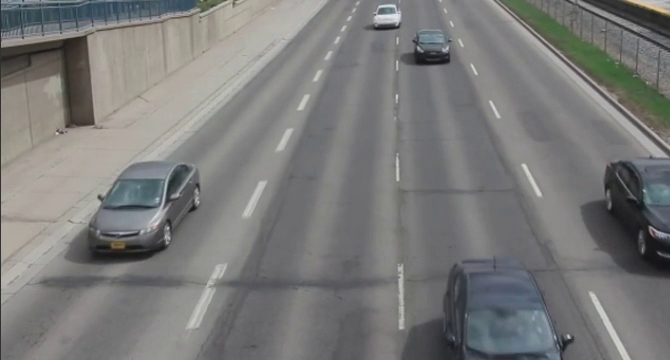car: (85, 152, 207, 260), (445, 252, 567, 360), (604, 157, 670, 265), (410, 26, 457, 66), (366, 1, 402, 28)
